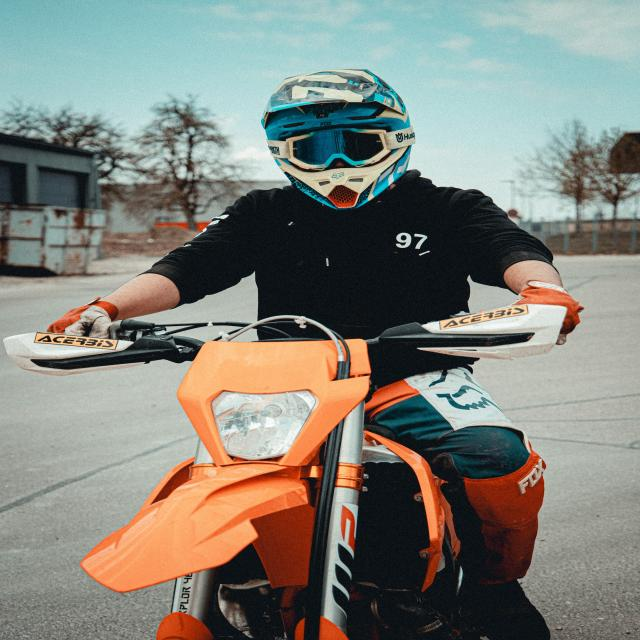With Helmet: (7, 60, 640, 640)
